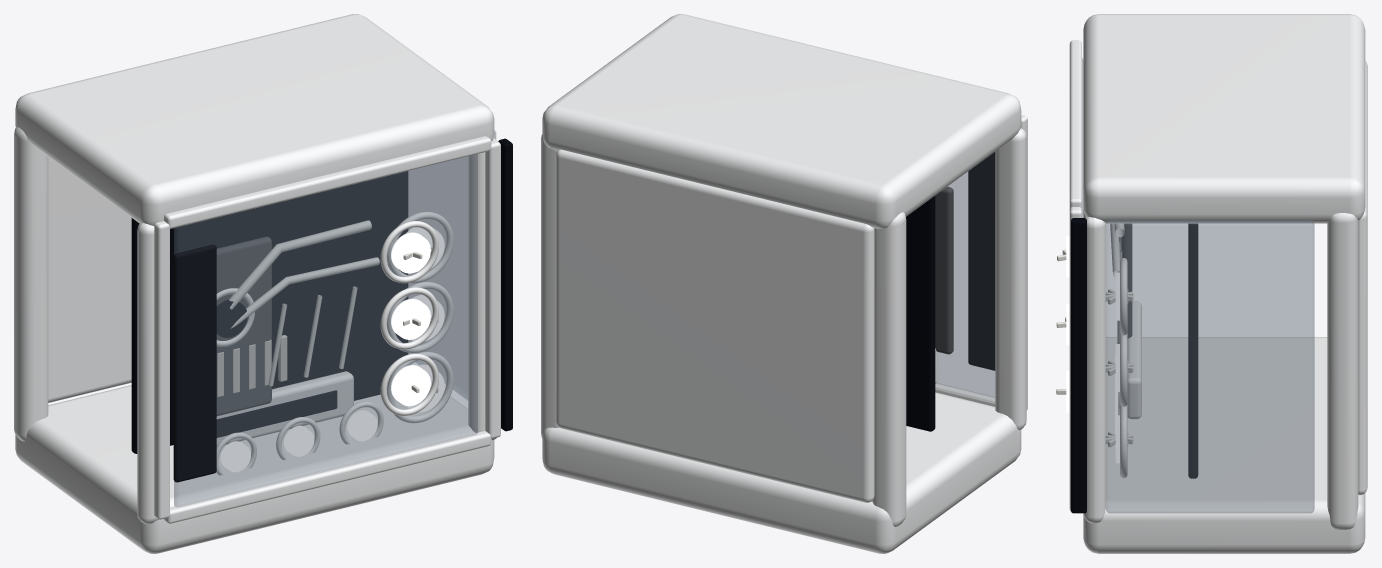
The model's file is p2s_video_so_ong_hyte_y70_snow_white.glb.
The picture shows the model from 3 angles, left to right: view 1: azimuth 30°, elevation 25°; view 2: azimuth 150°, elevation 25°; view 3: azimuth 270°, elevation 25°; orthographic projection.
Parts seen in each view (by area): view 1: hyte_front_glass, hyte_top_frame, hyte_bottom_frame, hyte_dark_interior, hyte_rear_panel, hyte_vertical_front_display, hyte_left_rear_post, hyte_side_glass, hyte_motherboard, hyte_front_white_outline_top, hyte_front_white_outline_bottom, hyte_left_front_post (+22 smaller); view 2: hyte_rear_panel, hyte_top_frame, hyte_bottom_frame, hyte_front_glass, hyte_left_rear_post, hyte_left_front_post, hyte_dark_interior, hyte_vertical_front_display, hyte_right_rear_post, hyte_motherboard, hyte_front_white_outline_left, hyte_front_white_outline_bottom; view 3: hyte_side_glass, hyte_top_frame, hyte_bottom_frame, hyte_right_rear_post, hyte_right_front_post, hyte_corner_seam_black, hyte_rear_panel, hyte_dark_interior, hyte_front_white_outline_top, hyte_vertical_gpu, hyte_motherboard, hyte_front_white_outline_right (+4 smaller).
Boxes of the visible parts, x1=… form: hyte_front_glass: x1=174, y1=154, x2=477, y2=506; hyte_top_frame: x1=15, y1=14, x2=494, y2=225; hyte_bottom_frame: x1=15, y1=385, x2=494, y2=553; hyte_dark_interior: x1=131, y1=171, x2=408, y2=453; hyte_rear_panel: x1=48, y1=157, x2=131, y2=402; hyte_vertical_front_display: x1=173, y1=244, x2=216, y2=482; hyte_left_rear_post: x1=14, y1=127, x2=48, y2=441; hyte_side_glass: x1=408, y1=130, x2=496, y2=399; hyte_motherboard: x1=216, y1=236, x2=271, y2=415; hyte_front_white_outline_top: x1=164, y1=136, x2=491, y2=228; hyte_front_white_outline_bottom: x1=164, y1=431, x2=491, y2=523; hyte_left_front_post: x1=137, y1=222, x2=158, y2=524; hyte_rear_panel: x1=556, y1=149, x2=874, y2=502; hyte_top_frame: x1=542, y1=14, x2=1021, y2=228; hyte_bottom_frame: x1=542, y1=392, x2=1021, y2=553; hyte_front_glass: x1=935, y1=152, x2=995, y2=402; hyte_left_rear_post: x1=872, y1=212, x2=906, y2=526; hyte_left_front_post: x1=995, y1=128, x2=1026, y2=429; hyte_dark_interior: x1=906, y1=196, x2=935, y2=431; hyte_vertical_front_display: x1=968, y1=152, x2=995, y2=370; hyte_right_rear_post: x1=541, y1=134, x2=559, y2=438; hyte_motherboard: x1=935, y1=186, x2=953, y2=354; hyte_front_white_outline_left: x1=1020, y1=115, x2=1027, y2=409; hyte_front_white_outline_bottom: x1=935, y1=383, x2=995, y2=406; hyte_side_glass: x1=1105, y1=219, x2=1314, y2=513; hyte_top_frame: x1=1083, y1=14, x2=1365, y2=223; hyte_bottom_frame: x1=1083, y1=337, x2=1365, y2=553; hyte_right_rear_post: x1=1327, y1=213, x2=1358, y2=529; hyte_right_front_post: x1=1083, y1=214, x2=1105, y2=523; hyte_corner_seam_black: x1=1071, y1=218, x2=1086, y2=513; hyte_rear_panel: x1=1358, y1=61, x2=1367, y2=495; hyte_dark_interior: x1=1188, y1=223, x2=1198, y2=478; hyte_front_white_outline_top: x1=1069, y1=40, x2=1081, y2=208; hyte_vertical_gpu: x1=1127, y1=301, x2=1141, y2=419; hyte_motherboard: x1=1121, y1=223, x2=1132, y2=338; hyte_front_white_outline_right: x1=1069, y1=207, x2=1081, y2=509.
Bounding box in the file's own units: 0.4868 × 0.47 × 0.353.
